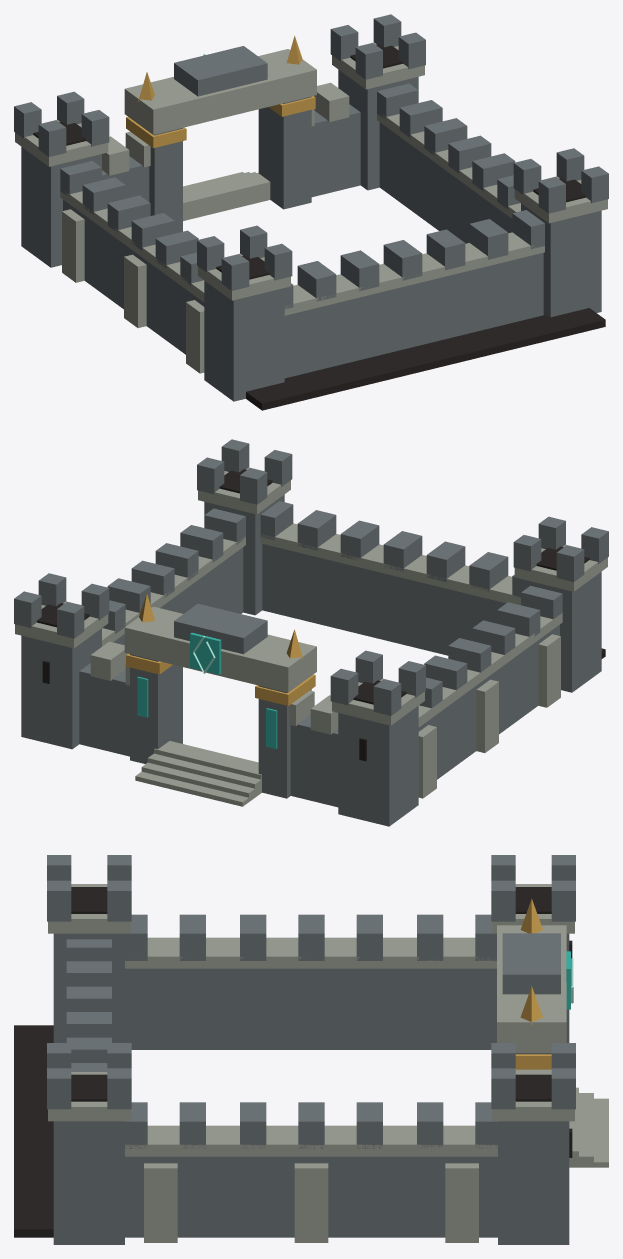
Rendered from CityWall_3.fbx.
3 renders of one model, top to bottom at view 1: azimuth 30°, elevation 25°; view 2: azimuth 150°, elevation 25°; view 3: azimuth 270°, elevation 25°, orthographic. The views are drawn at different scales.
Parts seen in each view (by area): view 1: CityWall_3; view 2: CityWall_3; view 3: CityWall_3.
Boxes of the visible parts, <box> form: CityWall_3: <box>14,14,608,410</box>; CityWall_3: <box>14,439,608,826</box>; CityWall_3: <box>14,855,608,1244</box>.
Size of the model in its own units: 2.81 by 1.13 by 3.16.
Materials: 1 (1 with a texture image).
